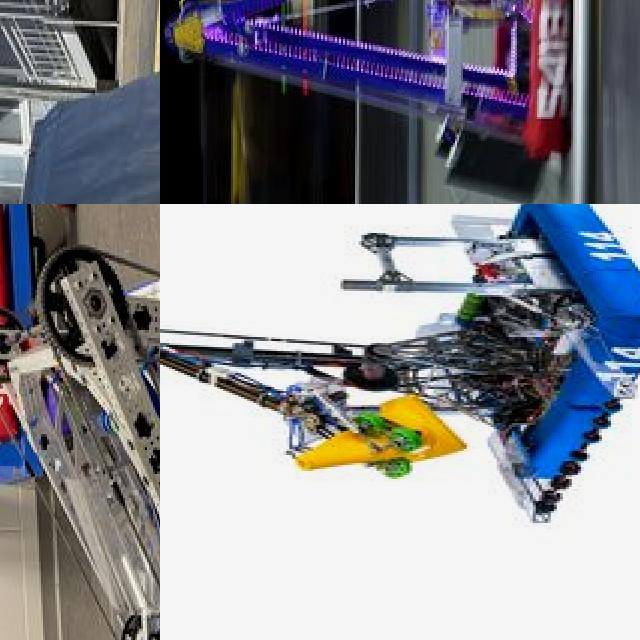FRC-Robots: (160, 204, 640, 536), (160, 0, 601, 204), (0, 204, 160, 640), (0, 8, 160, 204)
